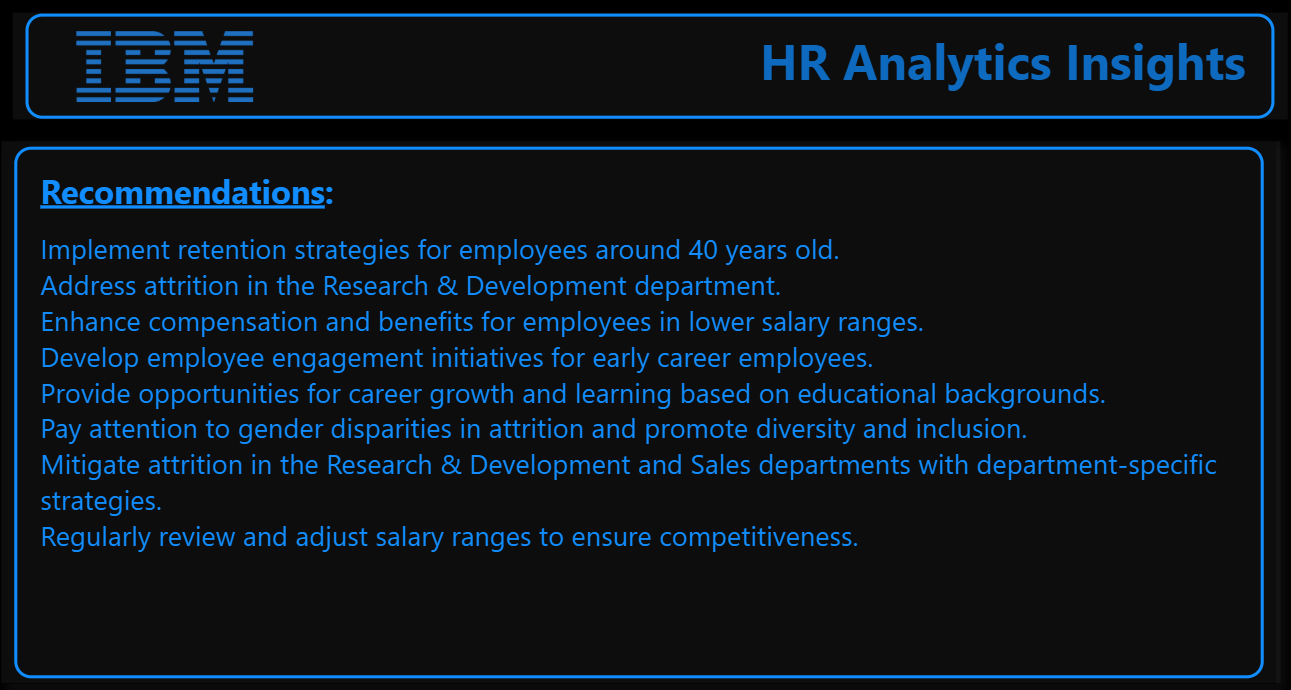

What the dashboard file says about the page in this screenshot:
{"tool":"powerbi","page":{"name":"Recommendation","canvas":[1280,720],"ordinal":2},"visuals":[{"type":"group","id":"g1","title":"Group 1","box":[18.8,17.3,1251,105.3],"z":0},{"type":"basicShape","box":[18.8,17.3,1251,105.3],"z":0,"group":"g1"},{"type":"basicShape","box":[6.9,143.5,1251.5,532.5],"z":0,"group":"g2"},{"type":"image","box":[52.7,31.3,229.2,79.4],"z":1000,"group":"g1"},{"type":"group","id":"g2","title":"Group 2","box":[6.9,143.5,1255.2,532.5],"z":1000},{"type":"textbox","box":[40,165.6,1222.1,450.3],"z":1000,"group":"g2"},{"type":"textbox","box":[508.5,27.4,725.7,83.7],"z":2000,"group":"g1"},{"type":"actionButton","box":[44,680.2,45.4,39.8],"z":2000}]}

Visuals, with their boxes on the page's 1280x720 design canvas (x1, y1, x2, y2). These are canvas units, not pixel positions in the 1291x690 screenshot, which may show the page scaled, cropped or inside an application window:
"Group 1" group: <box>19,17,1270,123</box>
basicShape: <box>19,17,1270,123</box>
basicShape: <box>7,144,1258,676</box>
image: <box>53,31,282,111</box>
"Group 2" group: <box>7,144,1262,676</box>
textbox: <box>40,166,1262,616</box>
textbox: <box>508,27,1234,111</box>
actionButton: <box>44,680,89,720</box>
